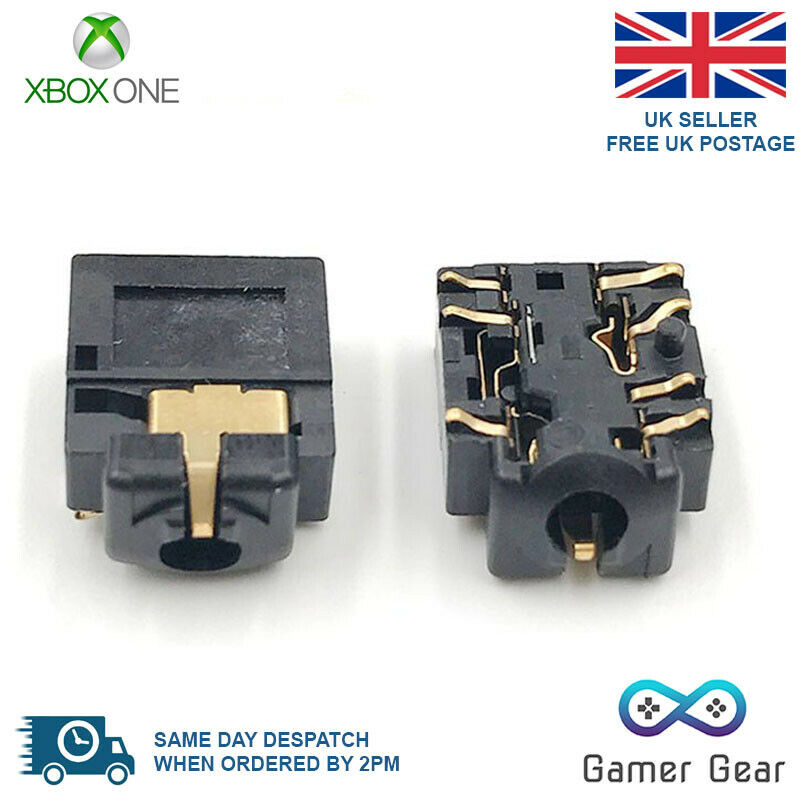aud: (429, 261, 716, 601), (61, 239, 341, 581)
